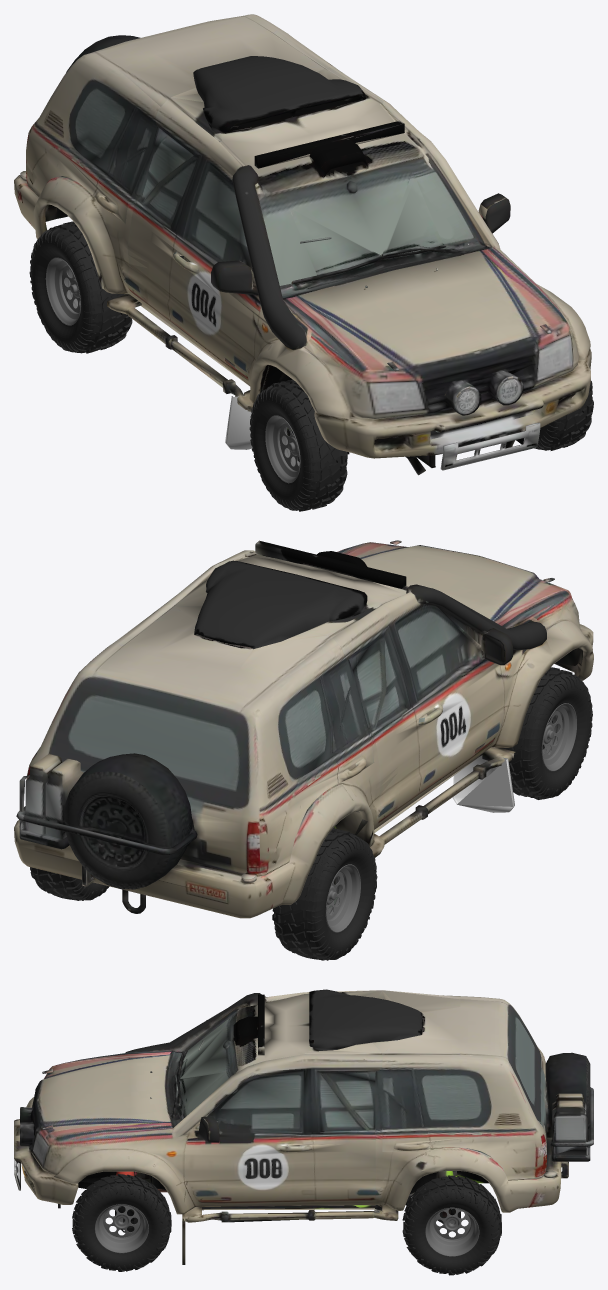
The model's file is toyota6.glb.
3 renders of one model, top to bottom at view 1: azimuth 30°, elevation 25°; view 2: azimuth 150°, elevation 25°; view 3: azimuth 270°, elevation 25°, orthographic. The views are drawn at different scales.
Parts seen in each view (by area): view 1: chassis.001, WheeL_FR.001, Wheel_BL.004, Wheel_FL.002, mesh_rep_0_ori_repair_quad.001; view 2: chassis.001, Wheel_BL.004, WheeL_FR.001, mesh_rep_0_ori_repair_quad.001, Wheel_BL.003; view 3: chassis.001, Wheel_BL.003, Wheel_FL.002.
Boxes of the visible parts, bbox=[...] form: chassis.001: bbox=[14, 14, 591, 475]; WheeL_FR.001: bbox=[249, 379, 347, 511]; Wheel_BL.004: bbox=[29, 221, 132, 353]; Wheel_FL.002: bbox=[534, 381, 593, 450]; mesh_rep_0_ori_repair_quad.001: bbox=[225, 396, 252, 449]; chassis.001: bbox=[14, 540, 593, 918]; Wheel_BL.004: bbox=[272, 827, 377, 960]; WheeL_FR.001: bbox=[502, 667, 592, 799]; mesh_rep_0_ori_repair_quad.001: bbox=[452, 755, 514, 812]; Wheel_BL.003: bbox=[30, 867, 109, 900]; chassis.001: bbox=[14, 989, 593, 1264]; Wheel_BL.003: bbox=[402, 1175, 501, 1275]; Wheel_FL.002: bbox=[72, 1174, 171, 1271].
Size of the model in its own units: 0.5131 by 0.4728 by 1.16.
Materials: 6 (1 with a texture image).
